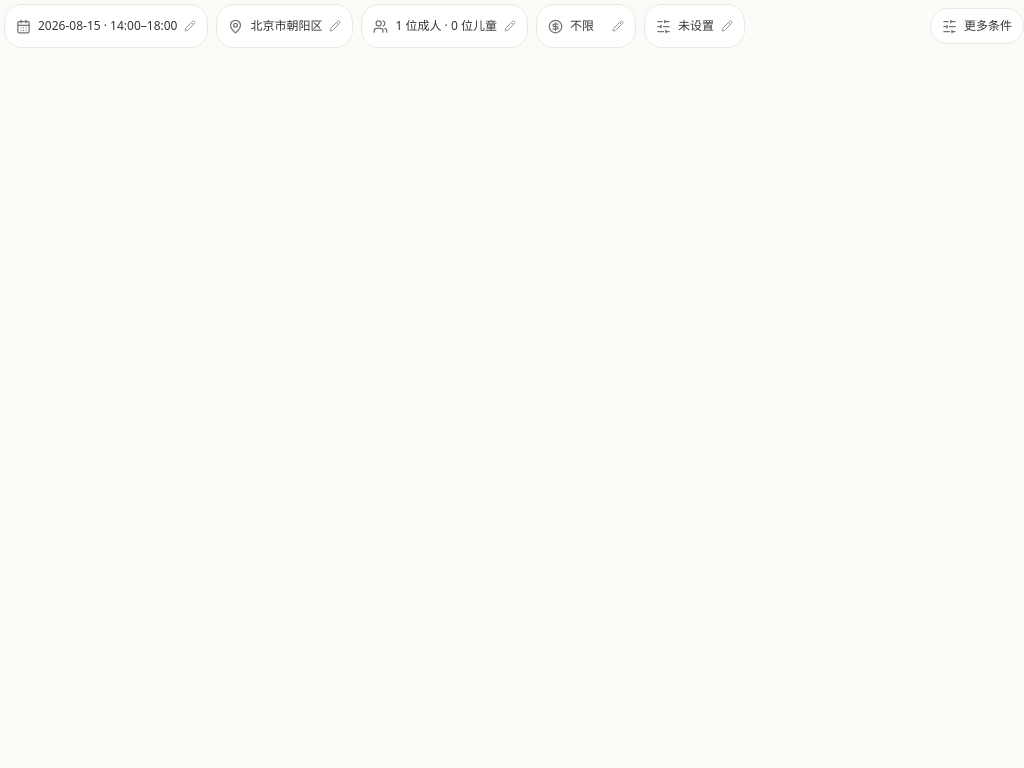
it: PlanningContextBar typed patches › does not save an unselected query and clearly asks for a search result
This screenshot has width=1024, height=768.
Click the button with aria-label "修改出发地": (285, 26) [216, 4, 354, 48]
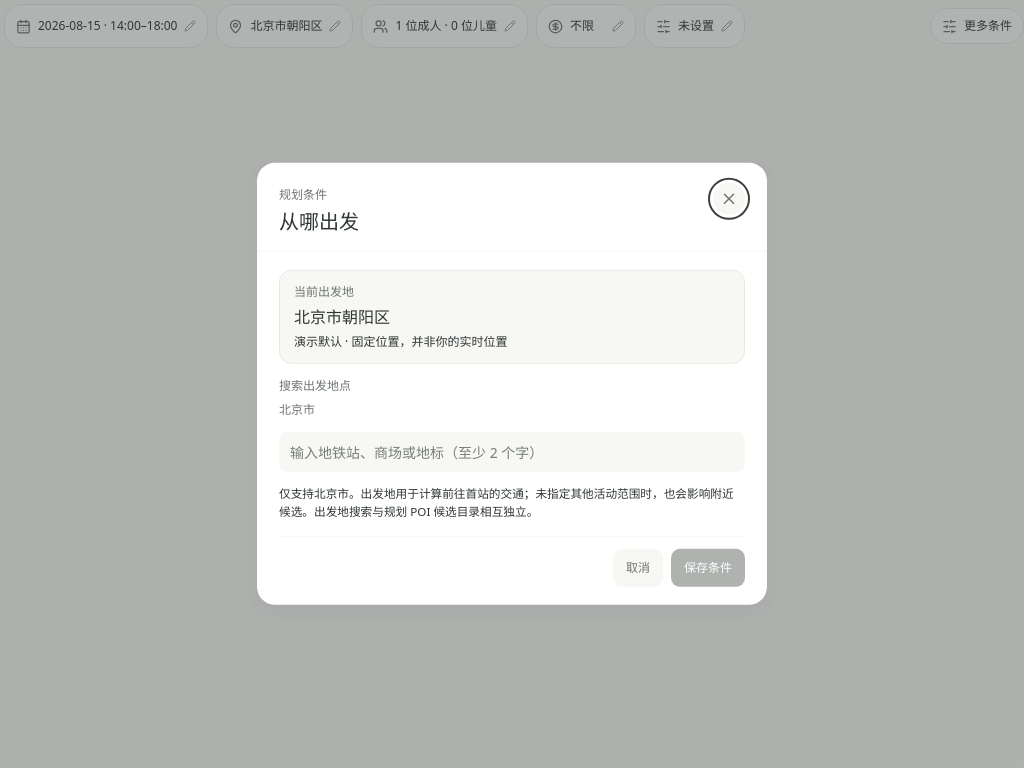
In the dropdown labelled "搜索出发地点 北京市": (512, 452) [279, 432, 745, 472], type "国贸"
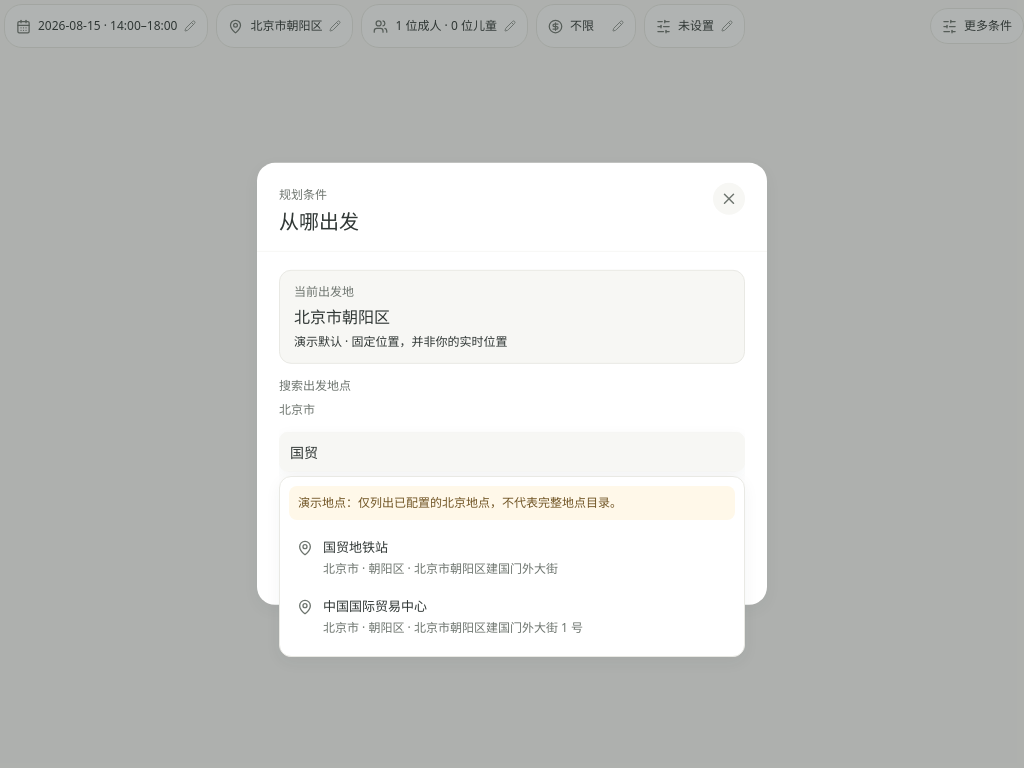
Now the button "保存条件" is disabled, box [671, 549, 745, 587]
Now the option "国贸地铁站 北京市 · 朝阳区 · 北京市朝阳区建国门外大街" is shown, box [297, 538, 558, 576]
Press Enter
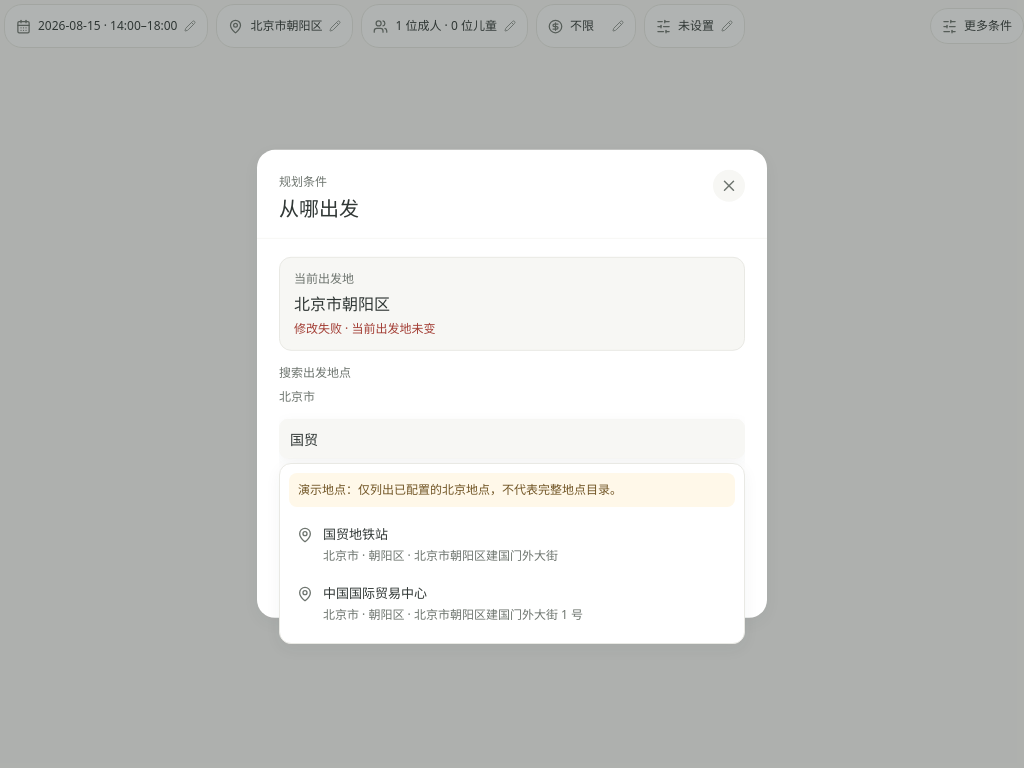
Now the message "请从搜索结果中选择一个地点，输入文字本身不会保存为出发地。" is shown, box [279, 519, 627, 536]
